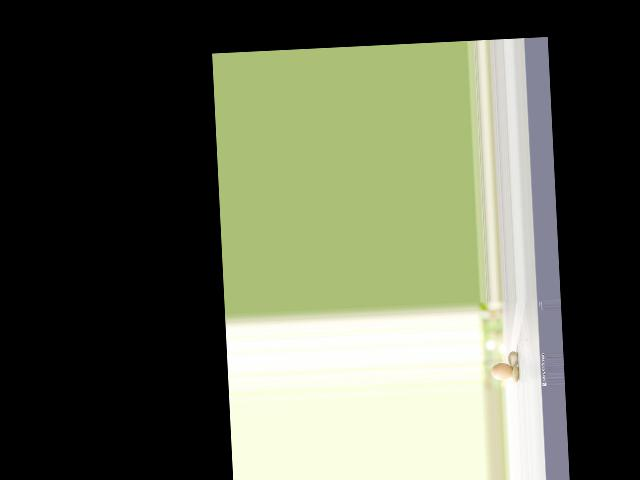egg: (491, 362, 513, 380)
